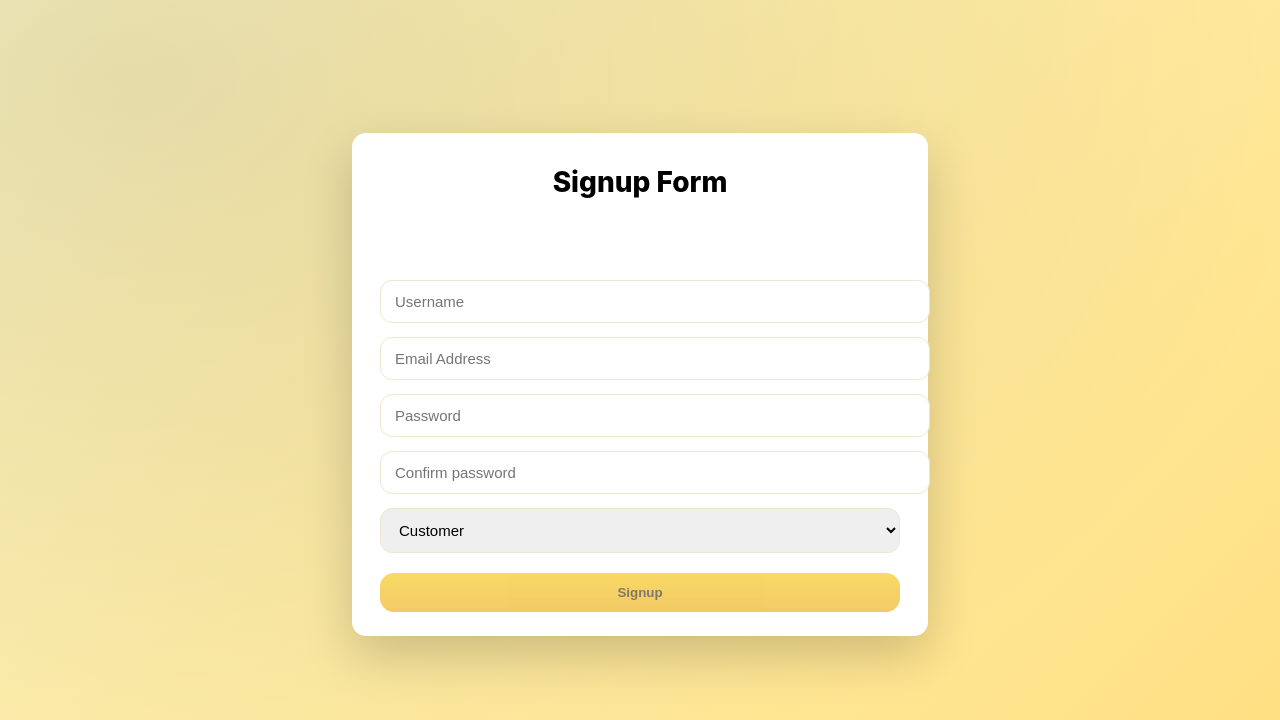
Signup Component › Form Submission Tests › should handle successful signup
The image size is (1280, 720).
Type "newuser" into the field with placeholder "Username". click: (655,301)
box: [380, 280, 930, 322]
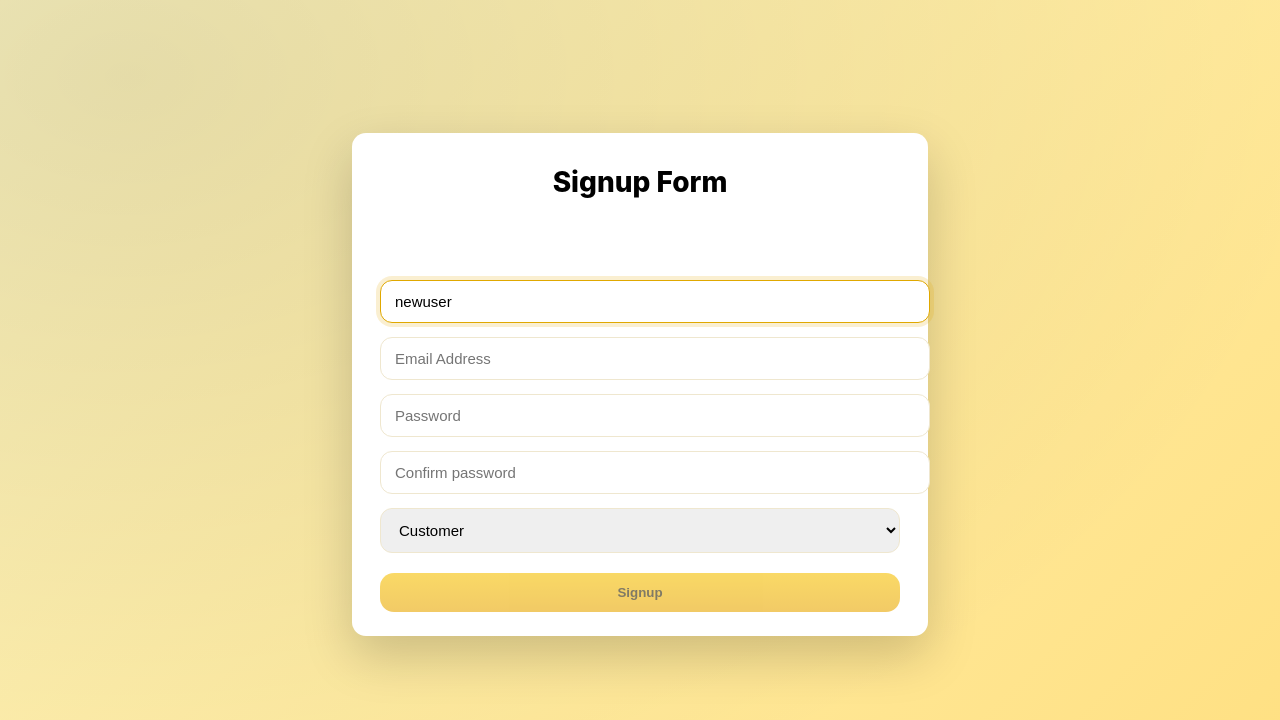
Type "new@example.com" into the field with placeholder "Email Address". click: (655,358)
box: [380, 336, 930, 380]
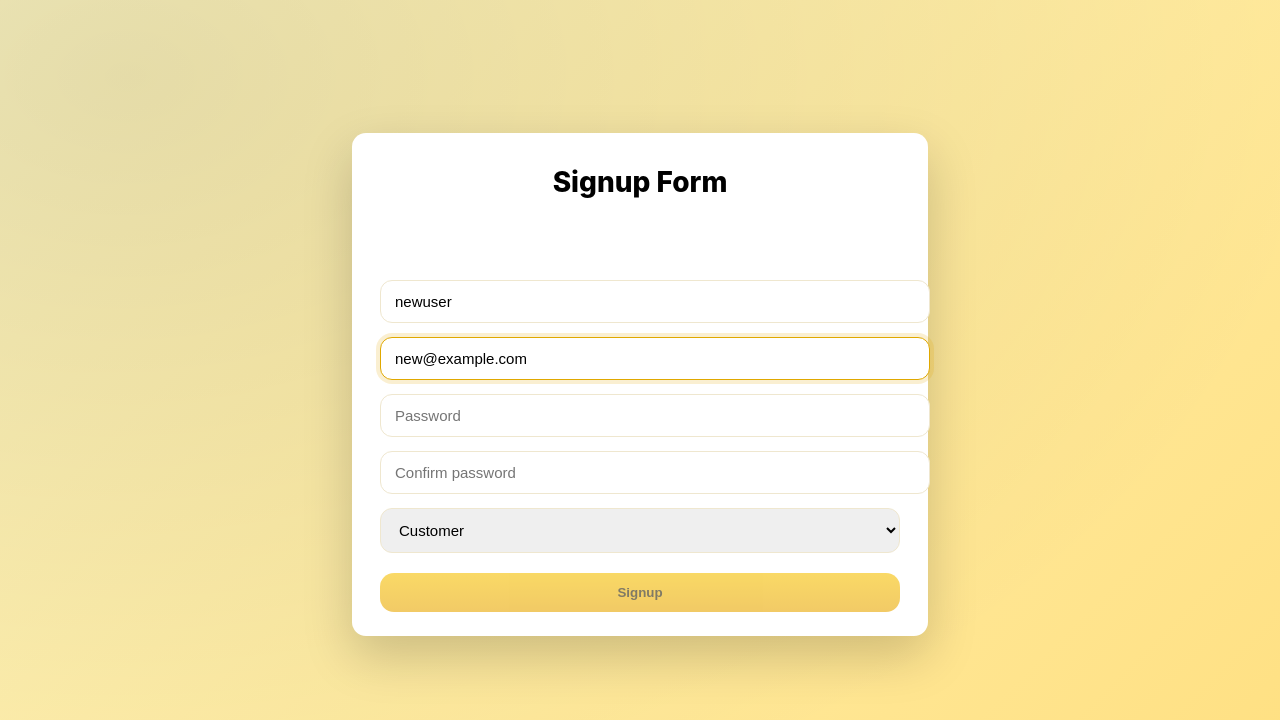
Type "password123" into the password field with placeholder "Password". click: (655,415)
box: [380, 394, 930, 436]
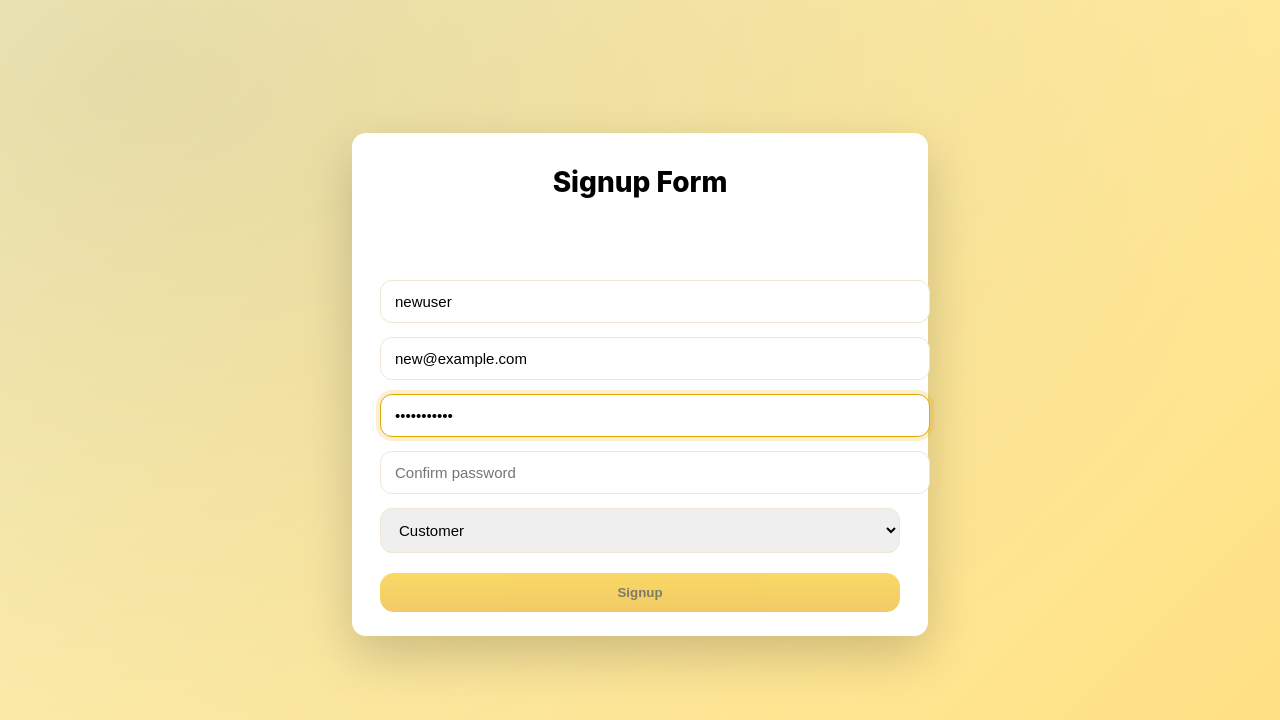
Type "password123" into the password field with placeholder "Confirm password". click: (655,472)
box: [380, 450, 930, 494]
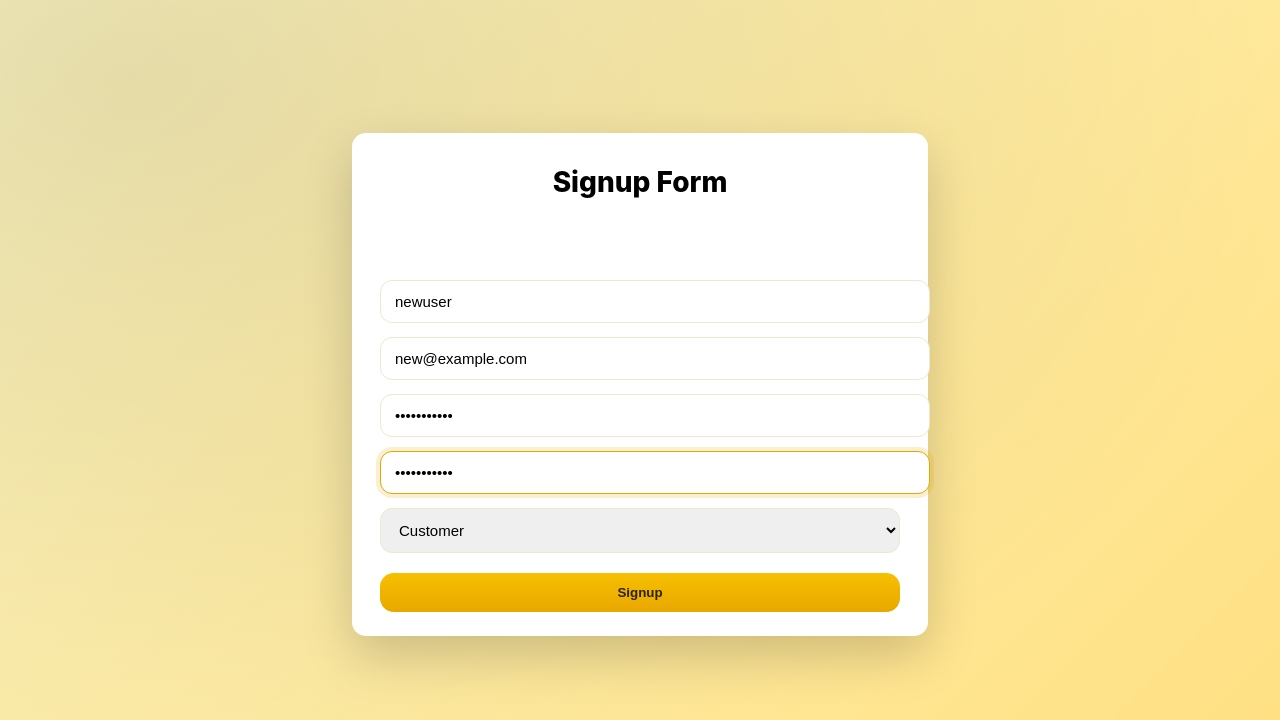
Click the button "Signup". click: (640,592)
box: [380, 572, 900, 612]
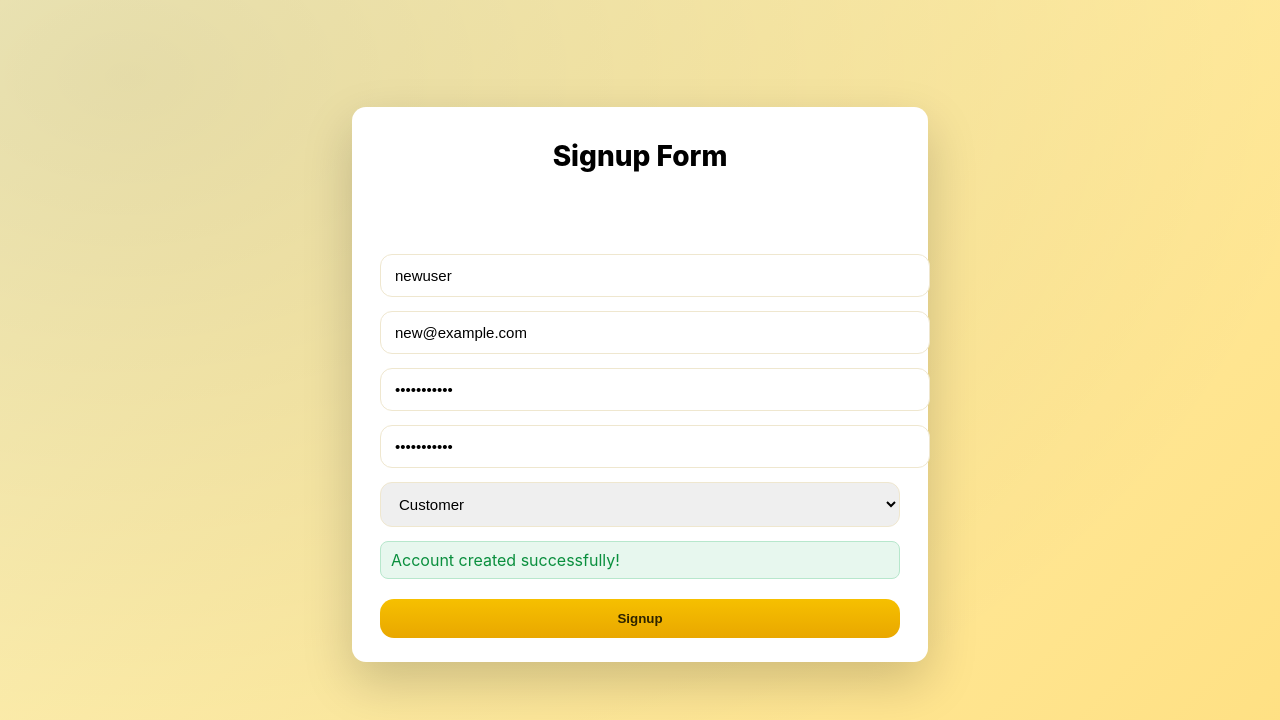
Now the text "Account created successfully!" is shown, box [380, 540, 900, 578]
